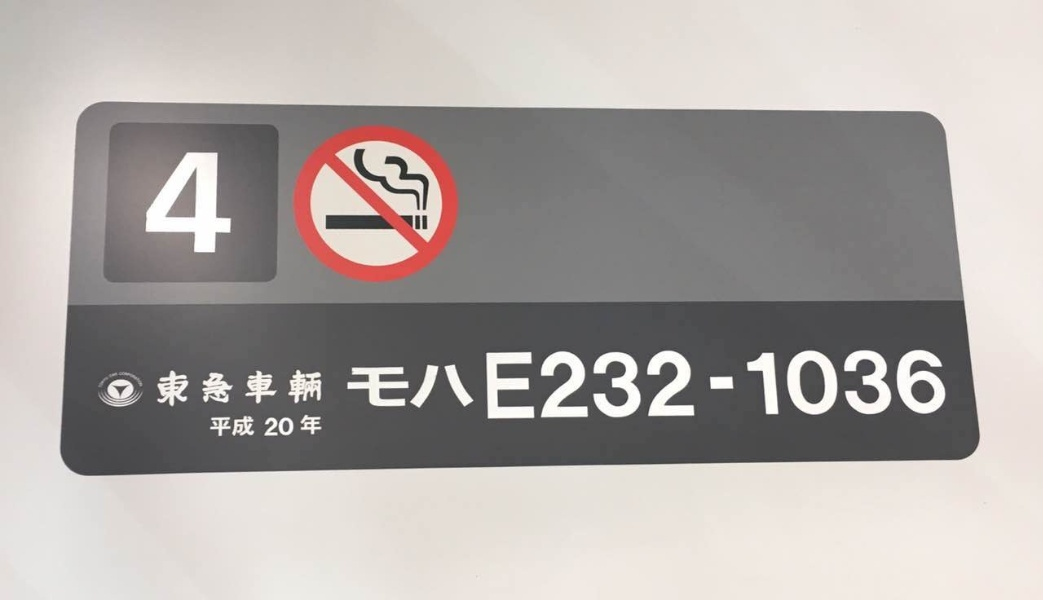text: (161, 154, 176, 254), (177, 154, 192, 254), (193, 154, 208, 254), (209, 154, 224, 254), (149, 154, 160, 254), (353, 347, 368, 420), (369, 347, 384, 420), (385, 347, 400, 420), (401, 347, 416, 420), (417, 347, 432, 420), (433, 347, 448, 420), (449, 347, 464, 420), (465, 347, 480, 420), (481, 347, 496, 420), (497, 347, 512, 420), (513, 347, 528, 420), (529, 347, 544, 420), (545, 347, 560, 420), (561, 347, 576, 420), (577, 347, 592, 420), (593, 347, 608, 420), (609, 347, 624, 420), (625, 347, 640, 420), (641, 347, 656, 420), (657, 347, 672, 420), (673, 347, 688, 420), (689, 347, 704, 420), (705, 347, 720, 420), (721, 347, 736, 420), (737, 347, 752, 420), (753, 347, 768, 420), (769, 347, 784, 420), (785, 347, 800, 420), (801, 347, 816, 420), (817, 347, 832, 420), (833, 347, 848, 420), (849, 347, 864, 420), (865, 347, 880, 420), (881, 347, 896, 420), (897, 347, 912, 420), (913, 347, 928, 420), (929, 347, 944, 420), (945, 347, 958, 420), (340, 347, 352, 420), (225, 154, 232, 254), (305, 370, 321, 408), (161, 370, 176, 408), (177, 370, 192, 408), (193, 370, 208, 408), (209, 370, 224, 408), (225, 370, 240, 408), (241, 370, 256, 408), (257, 370, 272, 408), (273, 370, 288, 408), (289, 370, 304, 408), (209, 417, 224, 439), (225, 417, 240, 439), (241, 417, 256, 439), (257, 417, 272, 439), (273, 417, 288, 439), (289, 417, 304, 439), (305, 417, 320, 439), (152, 370, 160, 408), (206, 417, 208, 439), (321, 417, 323, 439)
